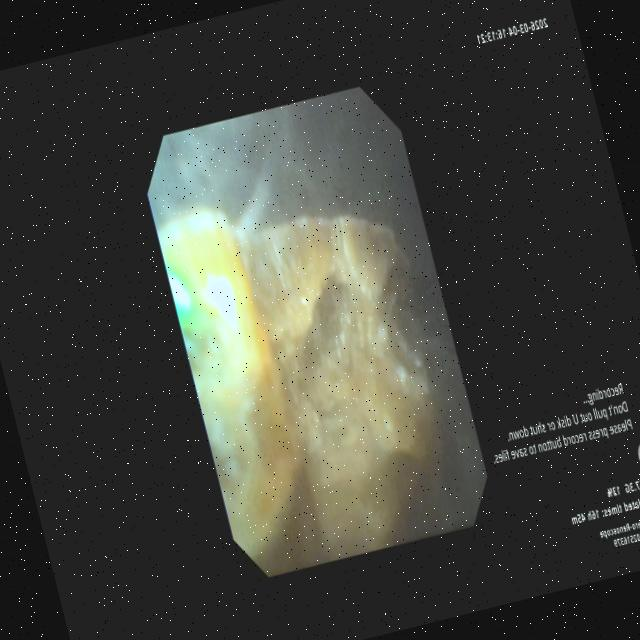laser_dot: (168, 274, 191, 319)
stone-new: (157, 207, 441, 574)
